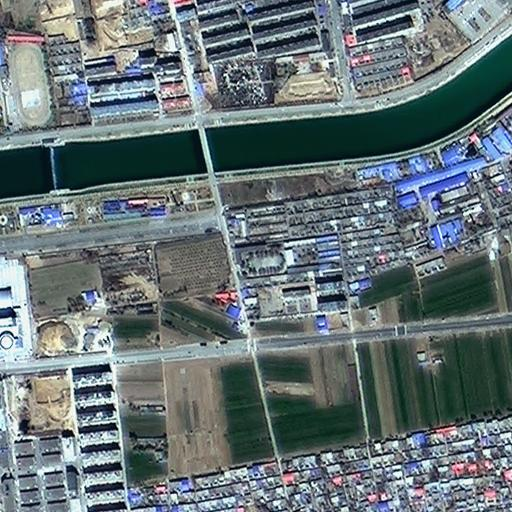school: (235, 234, 344, 280), (241, 272, 318, 317)
